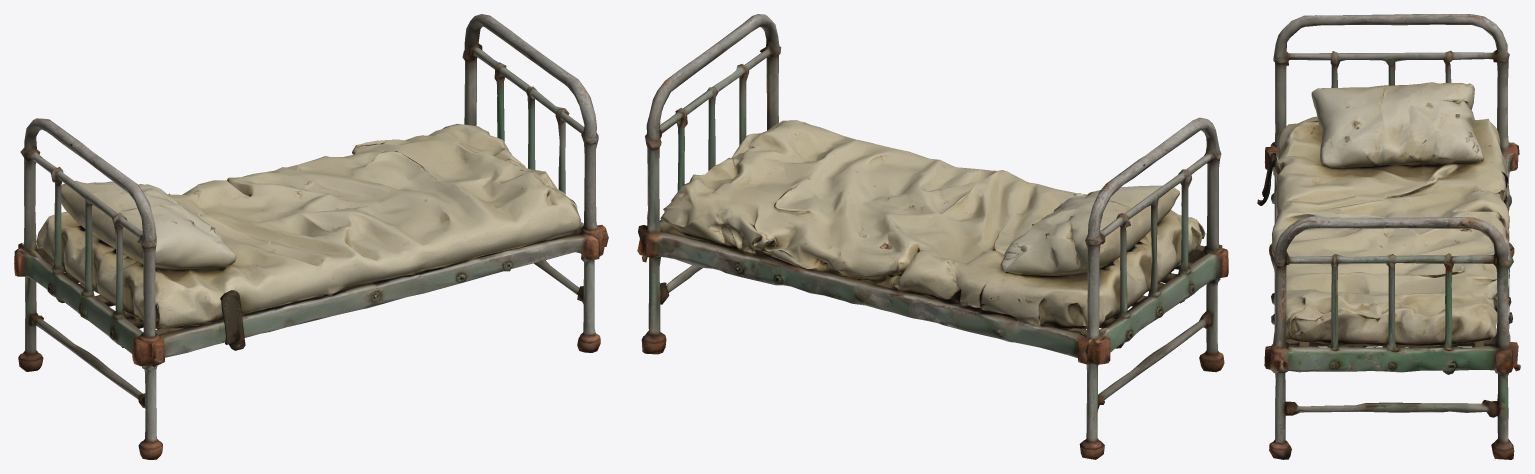
3 views of the same model, side by side, from view 1: azimuth 30°, elevation 25°; view 2: azimuth 150°, elevation 25°; view 3: azimuth 270°, elevation 25° (orthographic). The views are drawn at different scales.
Parts seen in each view (by area): view 1: tripo_node_160fb648-5d0a-49d9-9b5f-4866f1adc346; view 2: tripo_node_160fb648-5d0a-49d9-9b5f-4866f1adc346; view 3: tripo_node_160fb648-5d0a-49d9-9b5f-4866f1adc346.
Boxes of the visible parts, x1,y1,x2,y2 form: tripo_node_160fb648-5d0a-49d9-9b5f-4866f1adc346: (14,14,608,459); tripo_node_160fb648-5d0a-49d9-9b5f-4866f1adc346: (637,14,1228,459); tripo_node_160fb648-5d0a-49d9-9b5f-4866f1adc346: (1257,14,1520,459).
Size of the model in its own units: 1 by 0.5337 by 0.5226.
1 material, 1 textured.
